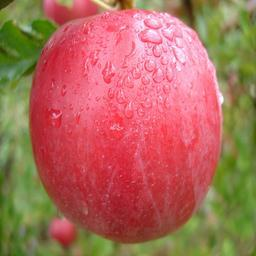apple: (27, 10, 222, 242)
